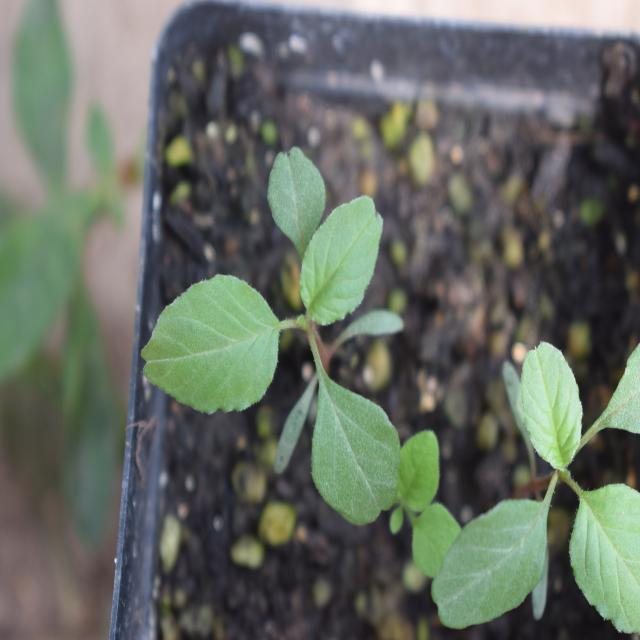pigweed: (148, 148, 406, 524)
